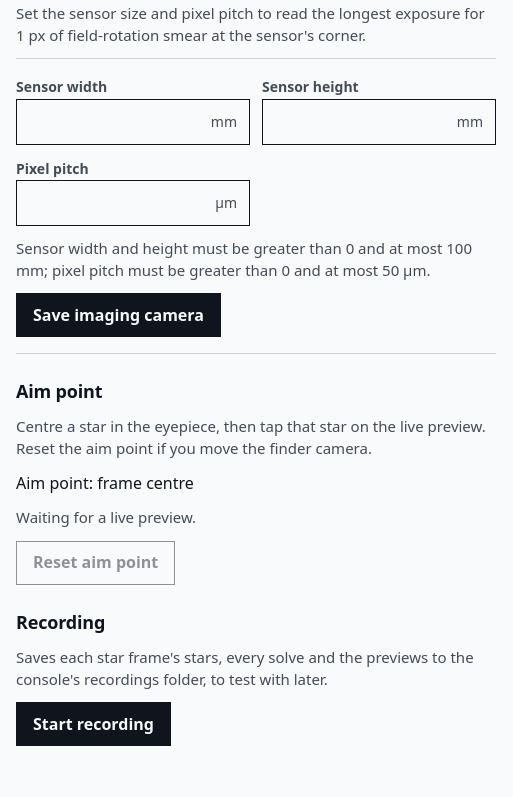
it: Setup recording (025 US3) › shows the exact start refusal without calling onChange
The image size is (513, 797).
(page scrolled)
Click the button "Start recording" at (93, 724), box [16,702,171,746]
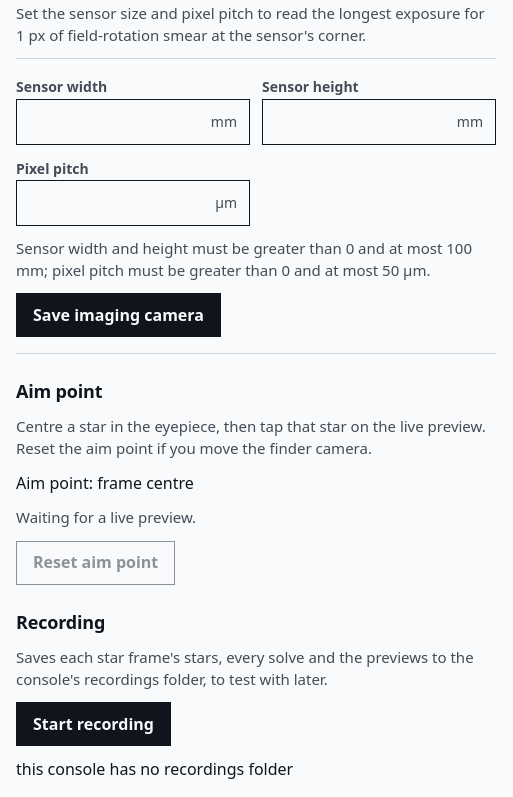
Check: the message reads "this console has no recordings folder", box [16,758,293,780]
